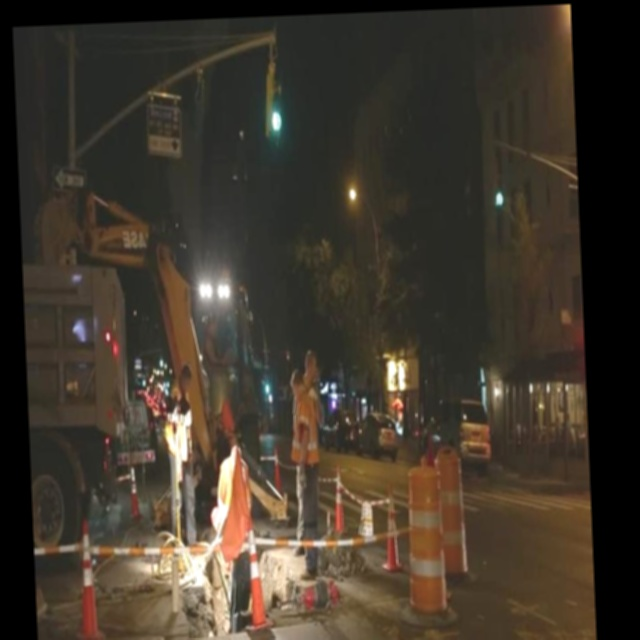Con_Chaleco: (289, 392, 320, 467)
